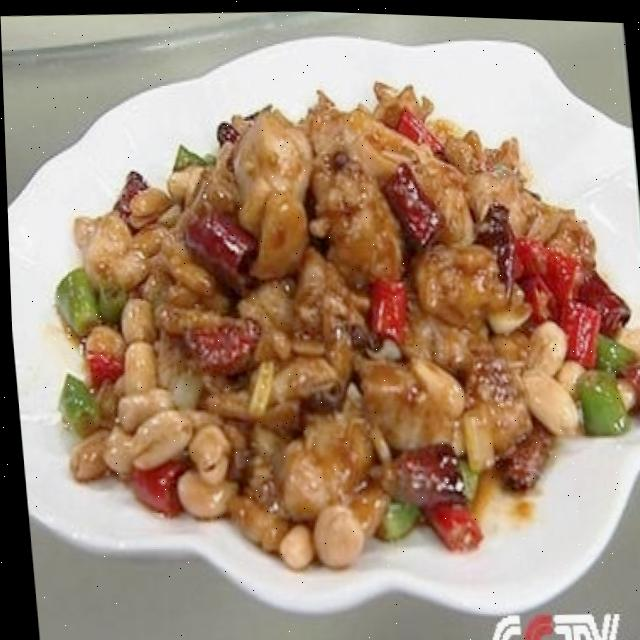鸡肉料理 含炸鸡: (0, 13, 640, 631)
